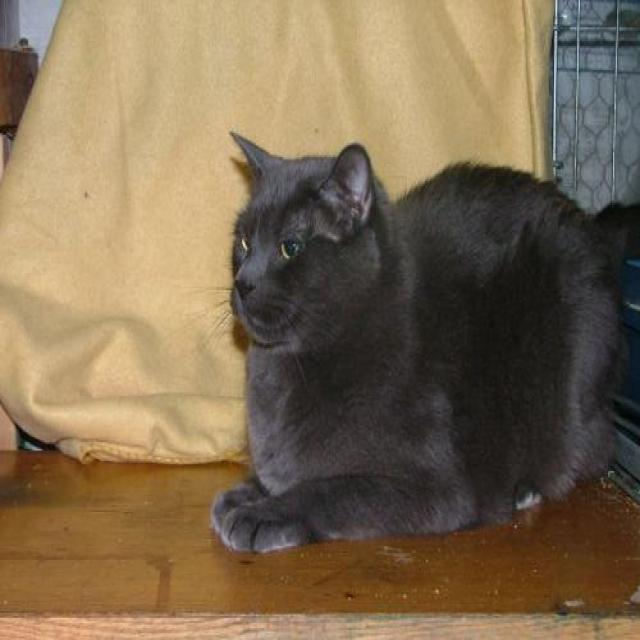Cats: (207, 128, 639, 556)
